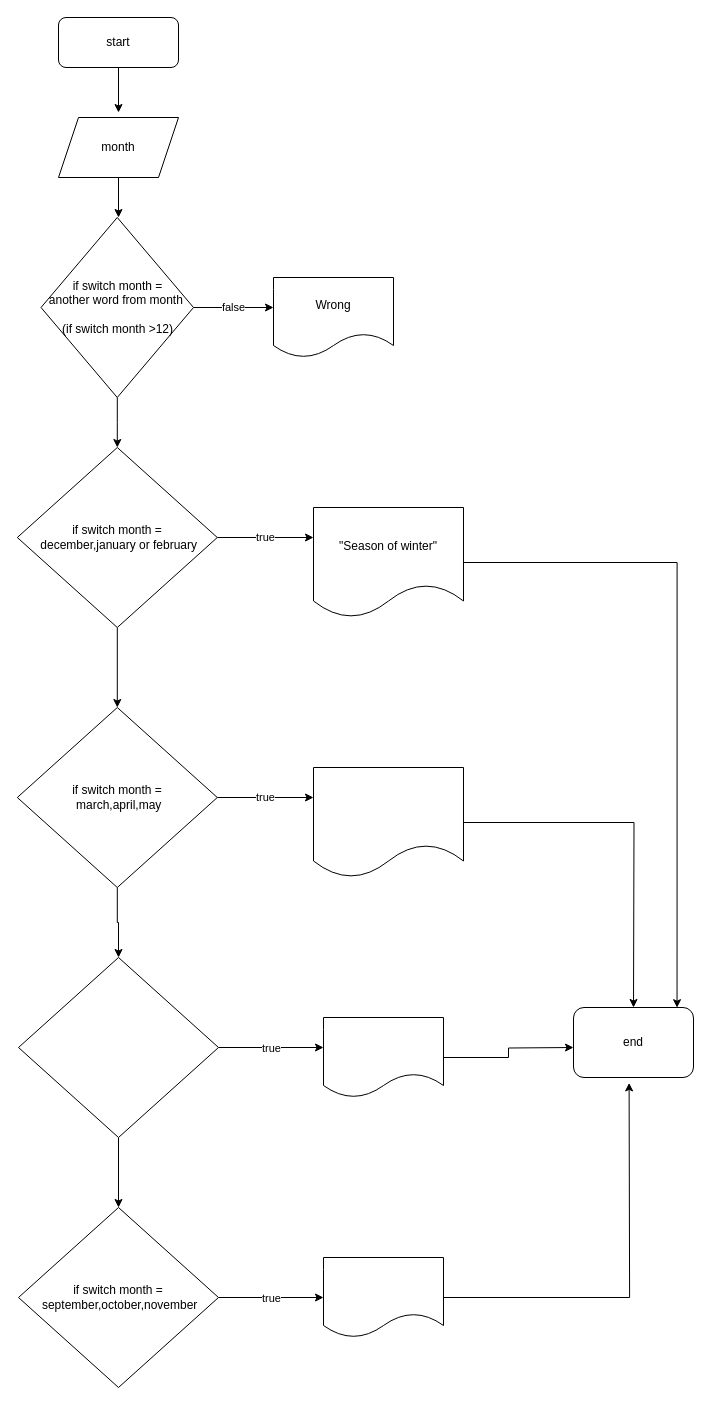
This 712x1405 diagram has some shape labels left out. Here are the shapes that lost their labels. From the top down, the centre of each, then its label:
point (388, 822): "season of spring"
point (118, 1047): if switch month = june,july,august
point (383, 1057): "Season of Summer"
point (383, 1297): "Season of autumn"
